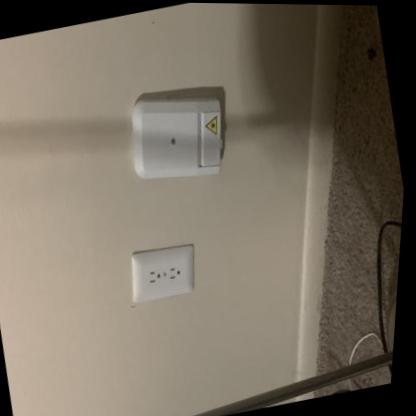OUTLET: (122, 240, 203, 305)
